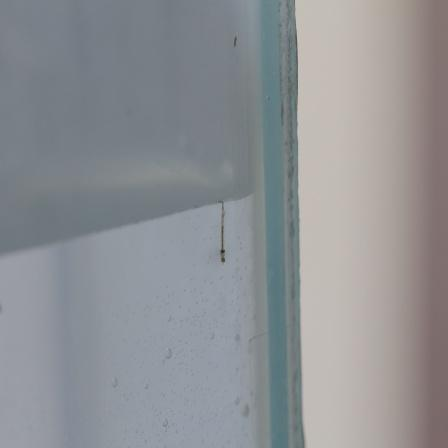Jentik-Nyamuk: (214, 196, 230, 268)
